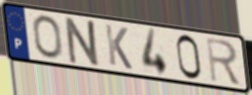0: (175, 33, 203, 81)
4: (140, 26, 169, 78)
K: (103, 23, 134, 72)
N: (64, 15, 103, 69)
O: (31, 14, 65, 61)
R: (204, 36, 243, 87)
